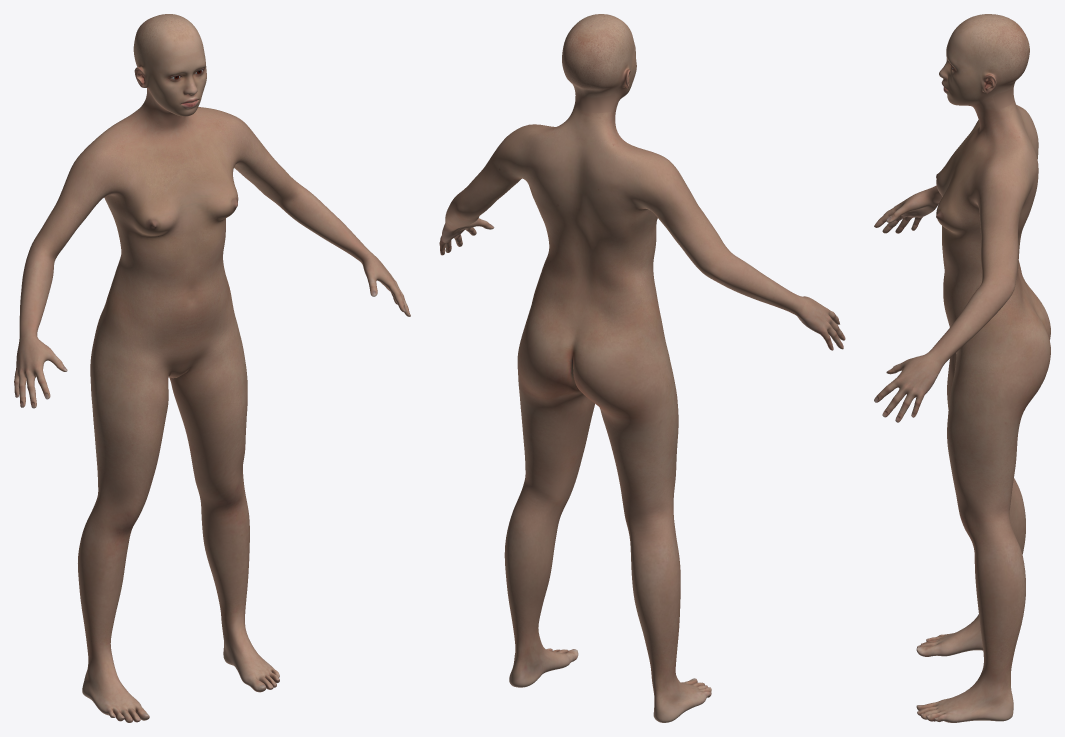
The model's file is fit-female.glb.
3 views of the same model, side by side, from view 1: azimuth 30°, elevation 25°; view 2: azimuth 150°, elevation 25°; view 3: azimuth 270°, elevation 25° (orthographic). The views are drawn at different scales.
Visible parts, largest first — view 1: RRC_female_adult_reference; view 2: RRC_female_adult_reference; view 3: RRC_female_adult_reference.
Boxes of the visible parts, x1,y1,x2,y2 form: RRC_female_adult_reference: (14,14,410,722); RRC_female_adult_reference: (439,14,845,722); RRC_female_adult_reference: (874,14,1050,722).
Size of the model in its own units: 2.08 by 3.4 by 0.8158.
2 materials, 2 textured.
